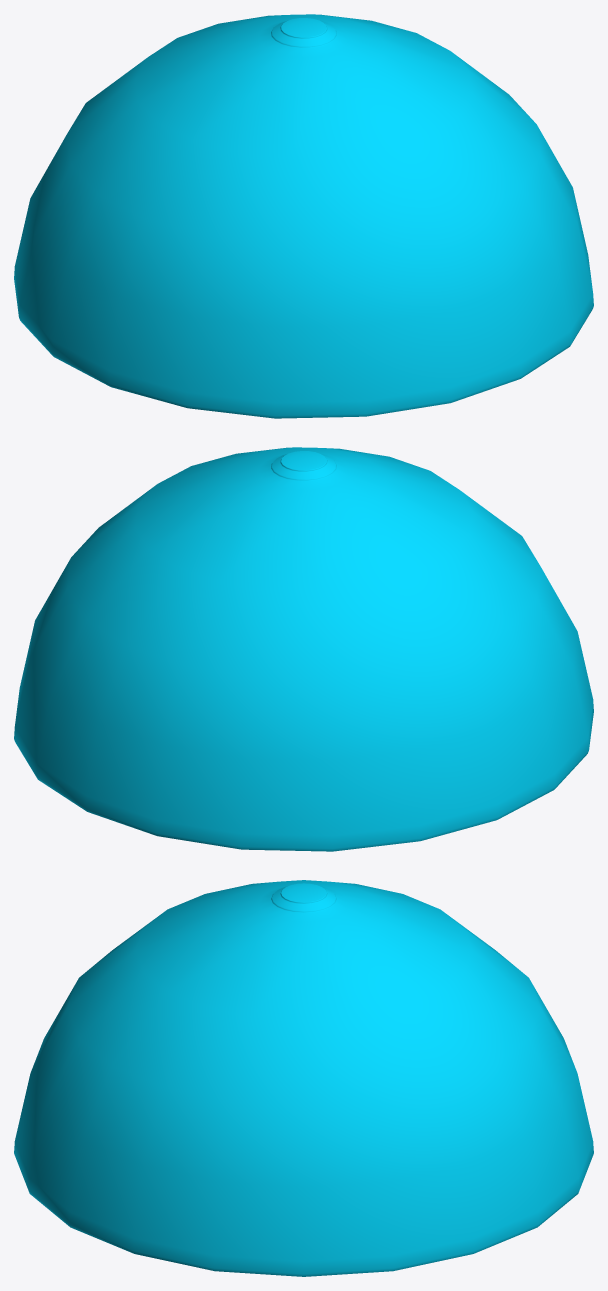
The model's file is Dome_1.fbx.
3 renders of one model, top to bottom at view 1: azimuth 30°, elevation 25°; view 2: azimuth 150°, elevation 25°; view 3: azimuth 270°, elevation 25°, orthographic.
Parts seen in each view (by area): view 1: Dome_1; view 2: Dome_1; view 3: Dome_1.
Part boxes in pixels (<box>): Dome_1: <box>14,14,593,418</box>; Dome_1: <box>14,447,593,851</box>; Dome_1: <box>14,880,593,1276</box>.
Size of the model in its own units: 20.69 by 10.6 by 21.
